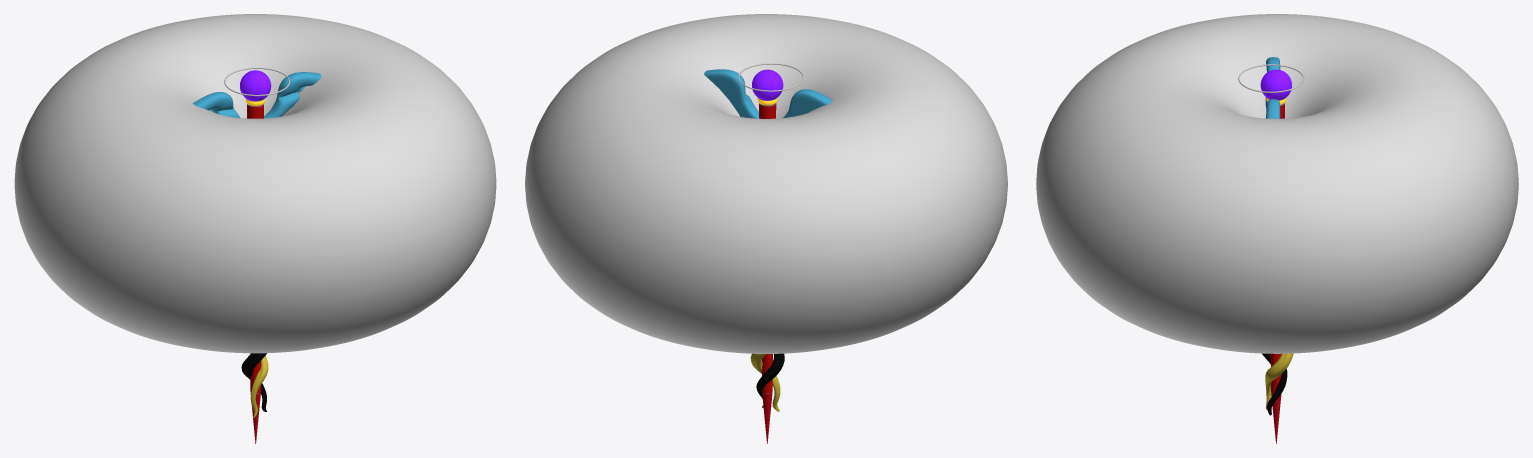
Rendered from HoloHealingCad2.fbx.
The picture shows the model from 3 angles, left to right: view 1: azimuth 30°, elevation 25°; view 2: azimuth 150°, elevation 25°; view 3: azimuth 270°, elevation 25°; orthographic projection.
Parts seen in each view (by area): view 1: Torus.002, object_11, object_4.001, object_12, object_9; view 2: Torus.002, object_11, object_12, object_4.001, object_6, object_9; view 3: Torus.002, object_4.001, object_10.
Part boxes in pixels (x1,y1,x2,y2): Torus.002: [14, 14, 496, 353]; object_11: [264, 72, 321, 118]; object_4.001: [240, 70, 271, 101]; object_12: [193, 92, 240, 117]; object_9: [241, 353, 266, 411]; Torus.002: [525, 14, 1007, 353]; object_11: [704, 69, 758, 118]; object_12: [782, 89, 832, 118]; object_4.001: [752, 69, 783, 100]; object_6: [759, 103, 776, 393]; object_9: [756, 353, 784, 407]; Torus.002: [1036, 14, 1518, 353]; object_4.001: [1260, 69, 1291, 100]; object_10: [1265, 353, 1293, 410].
Size of the model in its own units: 389 by 331 by 389.
